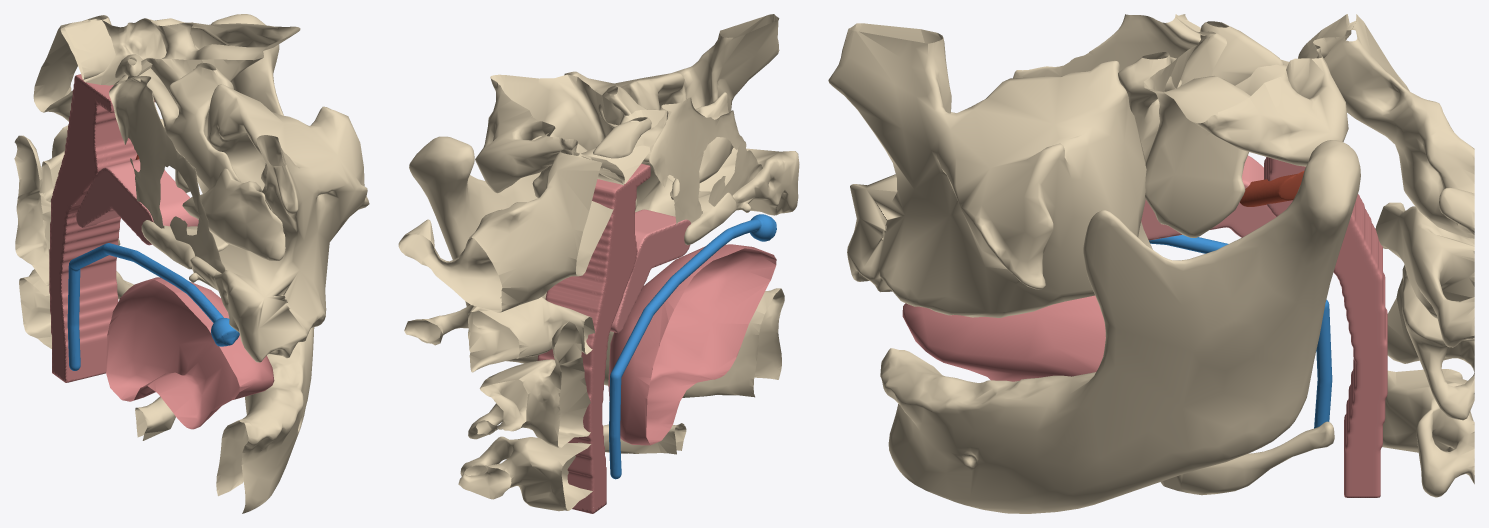
The model's file is speech-cut.glb.
The picture shows the model from 3 angles, left to right: view 1: azimuth 30°, elevation 25°; view 2: azimuth 150°, elevation 25°; view 3: azimuth 270°, elevation 25°; orthographic projection. The views are drawn at different scales.
Parts seen in each view (by area): view 1: bone (×11), tongue, mucosa, soft, air; view 2: bone (×11), tongue, mucosa, air, soft; view 3: bone (×10), tongue, mucosa, air, soft, muscle.
Boxes of the visible parts, bbox=[...] form: bone (×11): bbox=[14, 14, 369, 513]; tongue: bbox=[106, 277, 274, 429]; mucosa: bbox=[49, 74, 155, 382]; soft: bbox=[76, 159, 198, 245]; air: bbox=[67, 243, 239, 370]; bone (×11): bbox=[398, 14, 799, 511]; tongue: bbox=[608, 244, 776, 445]; mucosa: bbox=[537, 163, 650, 513]; air: bbox=[609, 214, 776, 479]; soft: bbox=[610, 209, 691, 332]; bone (×10): bbox=[828, 14, 1474, 513]; tongue: bbox=[902, 295, 1105, 381]; mucosa: bbox=[1264, 157, 1387, 497]; air: bbox=[1149, 235, 1332, 428]; soft: bbox=[1141, 155, 1275, 240]; muscle: bbox=[1240, 171, 1304, 206].
Size of the model in its own units: 55.62 by 87 by 113.
